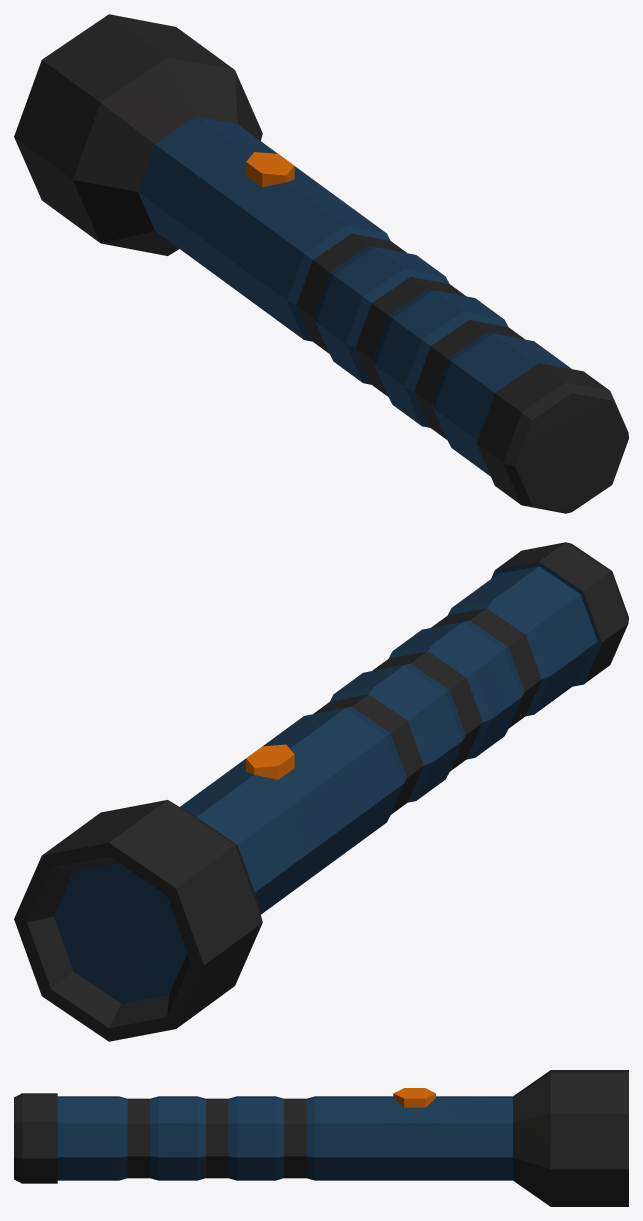
The model's file is Flashlight.fbx.
The picture shows the model from 3 angles, top to bottom: view 1: azimuth 30°, elevation 25°; view 2: azimuth 150°, elevation 25°; view 3: azimuth 270°, elevation 25°; orthographic projection. The views are drawn at different scales.
Parts seen in each view (by area): view 1: Flashlight; view 2: Flashlight; view 3: Flashlight.
Boxes of the visible parts, x1,y1,x2,y2 form: Flashlight: (14, 14, 628, 513); Flashlight: (14, 542, 628, 1041); Flashlight: (14, 1070, 628, 1206).
Bounding box in the file's own units: 5.35 × 5.35 × 22.6.
1 material, 1 textured.
